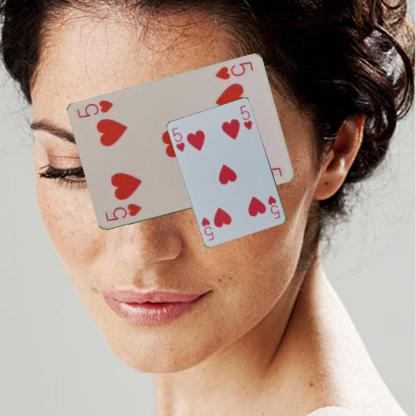5h: (212, 59, 255, 81), (102, 201, 142, 223), (265, 193, 282, 220), (170, 125, 186, 153)
